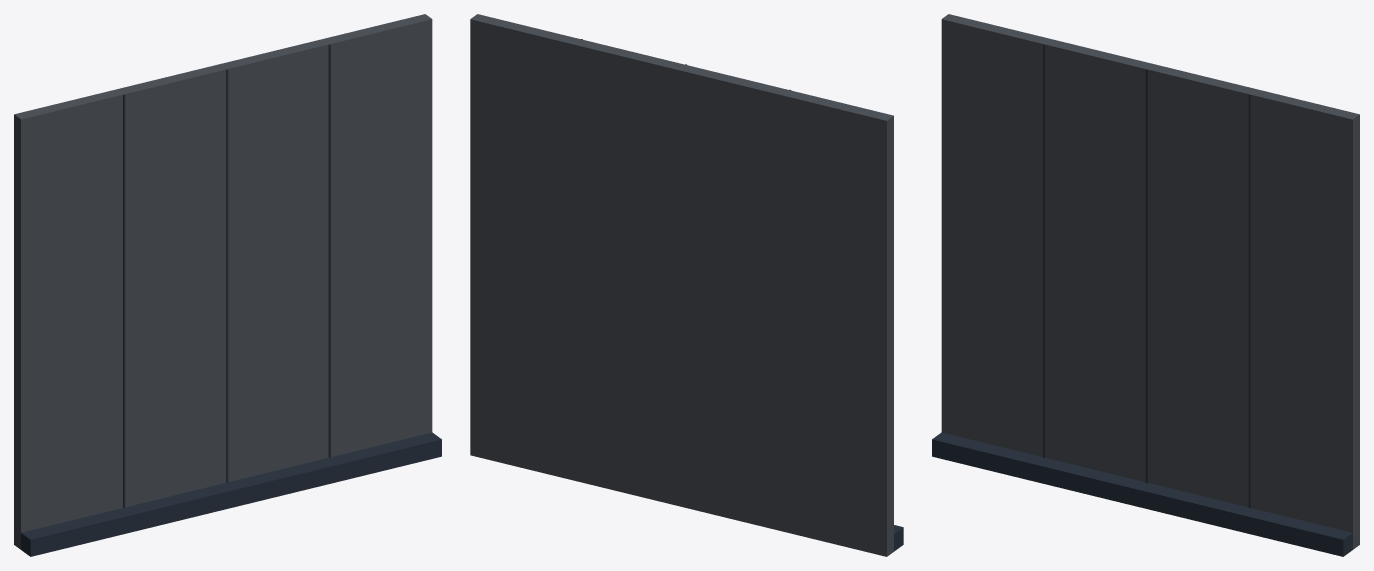
Rendered from ENV_road_sidewalk.obj.
3 renders of one model, left to right at view 1: azimuth 30°, elevation 25°; view 2: azimuth 150°, elevation 25°; view 3: azimuth 330°, elevation 25°, orthographic.
Visible parts, largest first — view 1: ENV_road_sidewalk; view 2: ENV_road_sidewalk; view 3: ENV_road_sidewalk.
Boxes of the visible parts, x1=… form: ENV_road_sidewalk: x1=14, y1=14, x2=441, y2=556; ENV_road_sidewalk: x1=470, y1=14, x2=903, y2=556; ENV_road_sidewalk: x1=932, y1=14, x2=1359, y2=556.
Bounding box in the file's own units: 4 × 4 × 0.28.
